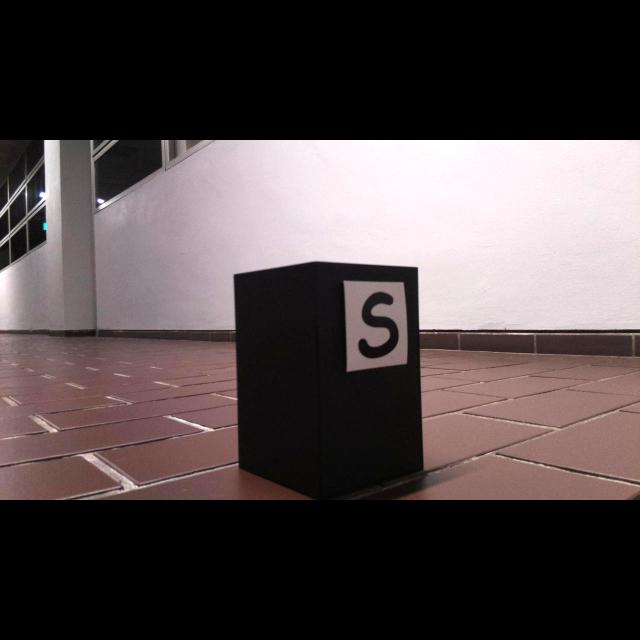S: (357, 293, 400, 359)
